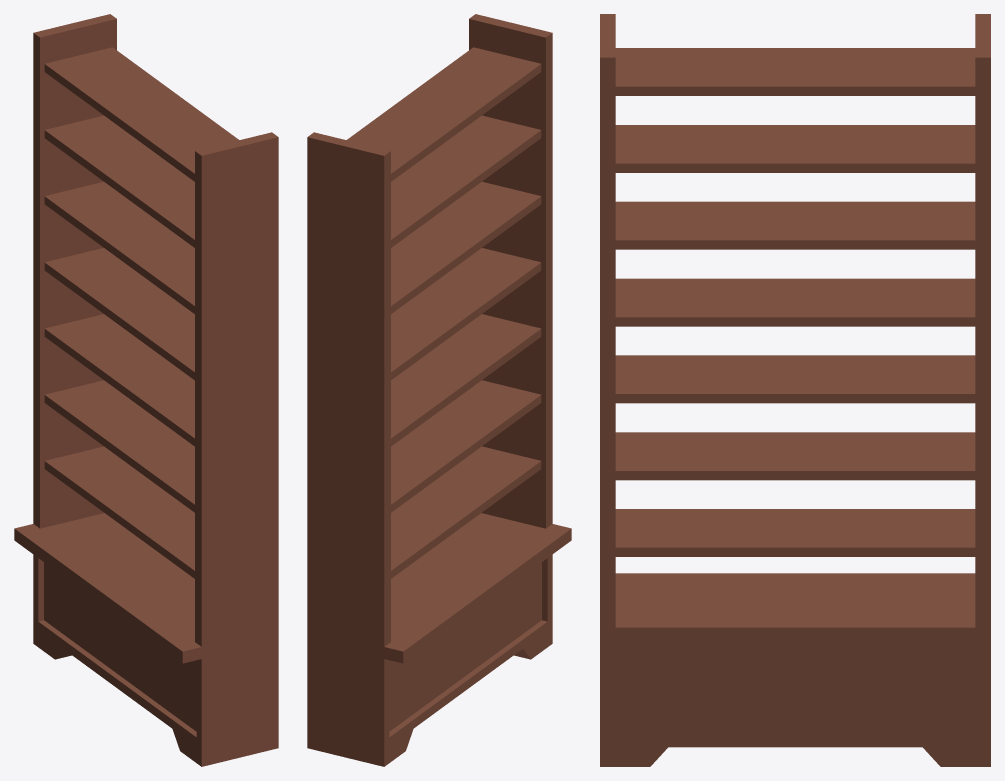
The model's file is SM_Shelves.fbx.
3 views of the same model, side by side, from view 1: azimuth 30°, elevation 25°; view 2: azimuth 150°, elevation 25°; view 3: azimuth 270°, elevation 25° (orthographic). The views are drawn at different scales.
Visible parts, largest first — view 1: Shelves_Large; view 2: Shelves_Large; view 3: Shelves_Large.
Boxes of the visible parts, x1,y1,x2,y2 form: Shelves_Large: (14, 14, 278, 766); Shelves_Large: (307, 14, 571, 766); Shelves_Large: (600, 14, 990, 766).
Bounding box in the file's own units: 90.91 × 553 × 276.
